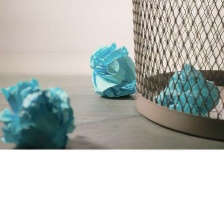book: (0, 68, 85, 151), (151, 50, 224, 119), (82, 30, 146, 105)
